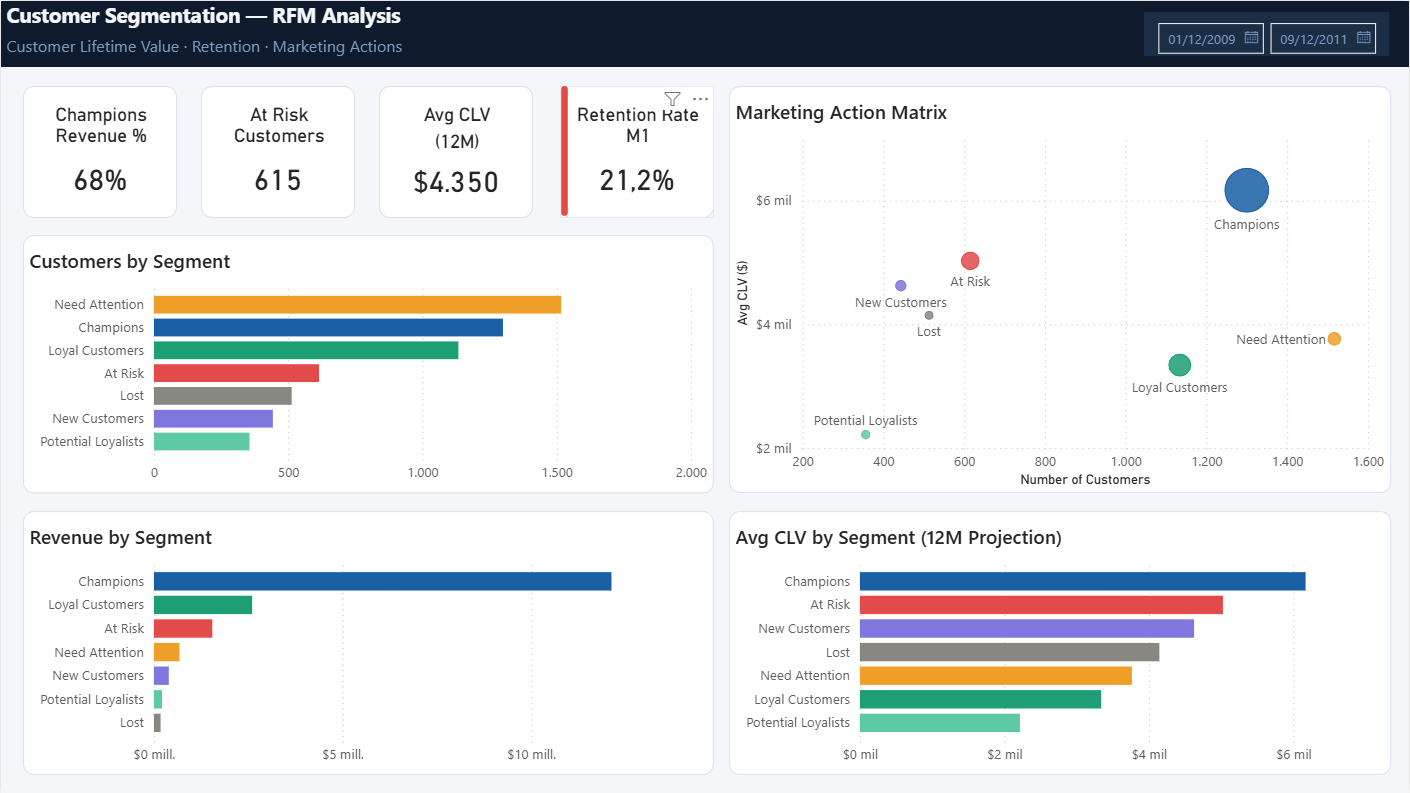

The dashboard page shown, as its layout file describes it:
{"tool":"powerbi","page":{"name":"Customer Segmentation","canvas":[1280,720],"ordinal":1},"visuals":[{"type":"textbox","title":"Customer Segmentation — RFM Analysis","box":[0,0,1280,60],"z":0},{"type":"card","title":"Retention Rate M1","fields":{"Values":["rfm_segments.Retention Rate M1"]},"box":[508.4,77.3,140,120],"z":0,"group":"g2"},{"type":"card","title":"Champions Revenue %","fields":{"Values":["rfm_segments.Champions Revenue %"]},"box":[20,77,140,120],"z":1000},{"type":"card","title":"At Risk Customers","fields":{"Values":["rfm_segments.At Risk Count"]},"box":[181.5,76.9,140,120],"z":2000},{"type":"card","title":"Avg CLV","fields":{"Values":["rfm_segments.Avg CLV Segment"]},"box":[343.8,76.9,140,120],"z":3000},{"type":"group","id":"g1","title":"Grupo 1","box":[508.4,77.3,140,120],"z":4000},{"type":"clusteredBarChart","title":"Customers by Segment","fields":{"Y":["transactions.Total Clientes"],"Category":["rfm_segments.segment"]},"box":[20,212.7,628.2,234.5],"z":5000},{"type":"clusteredBarChart","title":"Revenue by Segment","fields":{"Category":["rfm_segments.segment"],"Y":["transactions.Revenue Total"]},"box":[20,463.6,628.2,240],"z":6000},{"type":"clusteredBarChart","title":"Avg CLV by Segment (12M Projection)","fields":{"Category":["rfm_segments.segment"],"Y":["rfm_segments.Avg CLV Segment"]},"box":[661.8,463.6,601.8,240],"z":7000},{"type":"scatterChart","title":"Marketing Action Matrix","fields":{"Category":["rfm_segments.segment"],"Series":["rfm_segments.segment"],"Size":["transactions.Revenue Total"],"X":["transactions.Total Clientes"],"Y":["rfm_segments.Avg CLV Segment"]},"box":[661.8,77.3,601.8,370],"z":8000},{"type":"group","id":"g2","title":"Grupo 2","box":[508.4,77.3,140,120],"z":8001,"group":"g1"},{"type":"shape","box":[483.6,77.3,57.3,118.2],"z":11500},{"type":"slicer","fields":{"Values":["transactions.invoice_date"]},"box":[1039,10,223,40],"z":11501}]}

Visuals, with their boxes in screenshot pixels (x1, y1, x2, y2), scaled from the page's 1280x720 canvas onto the 1410x793 screenshot:
"Customer Segmentation — RFM Analysis" textbox: 0:0:1409:66
"Retention Rate M1" card: 560:85:714:217
"Champions Revenue %" card: 22:85:176:217
"At Risk Customers" card: 200:85:354:217
"Avg CLV" card: 379:85:533:217
"Grupo 1" group: 560:85:714:217
"Customers by Segment" clusteredBarChart: 22:234:714:493
"Revenue by Segment" clusteredBarChart: 22:511:714:775
"Avg CLV by Segment (12M Projection)" clusteredBarChart: 729:511:1392:775
"Marketing Action Matrix" scatterChart: 729:85:1392:493
"Grupo 2" group: 560:85:714:217
shape: 533:85:596:215
slicer - transactions.invoice_date: 1145:11:1390:55
